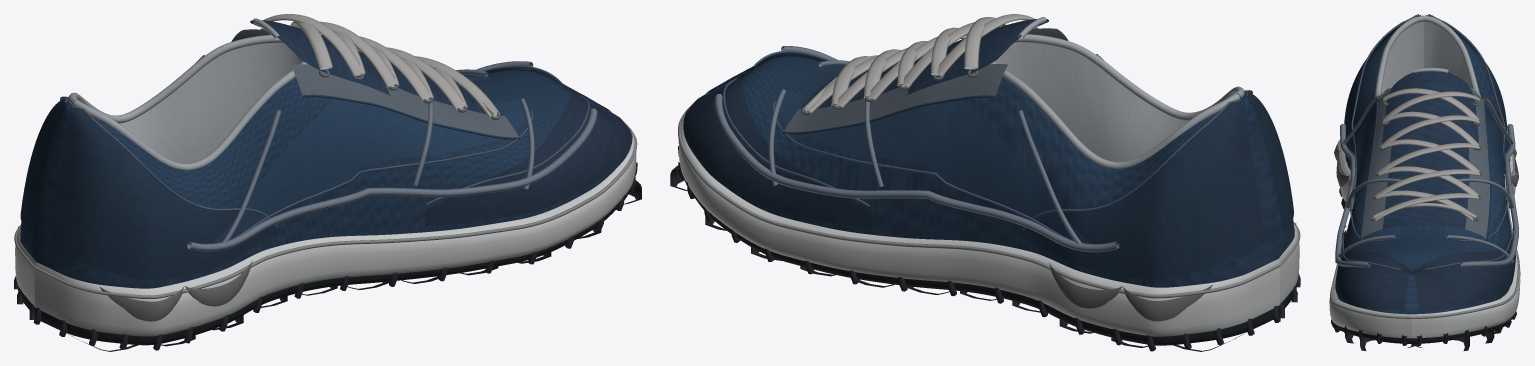
Rendered from 06-navy-grey.glb.
The picture shows the model from 3 angles, left to right: view 1: azimuth 30°, elevation 25°; view 2: azimuth 150°, elevation 25°; view 3: azimuth 270°, elevation 25°; orthographic projection. The views are drawn at different scales.
Parts seen in each view (by area): view 1: upper, midsole, heel-panel, quarter, lining, toe-wrap, laces, support, eyelet-stay, outsole, padded-rim, tongue (+6 smaller); view 2: upper, midsole, heel-panel, quarter, lining, toe-wrap, laces, support, eyelet-stay, outsole, padded-rim, welt (+6 smaller); view 3: tongue, toe-wrap, upper, laces, midsole, eyelet-stay, support, lining, quarter, stitch, padded-rim, heel-panel (+7 smaller).
Part boxes in pixels (x1,y1,x2,y2): upper: (20,70,632,288); midsole: (15,117,636,336); heel-panel: (20,99,278,279); quarter: (212,74,530,243); lining: (73,43,302,170); toe-wrap: (425,67,631,225); laces: (263,14,500,118); support: (187,55,597,251); eyelet-stay: (231,29,518,137); outsole: (17,186,631,345); padded-rim: (68,35,308,169); tongue: (250,20,503,115); upper: (683,56,1294,287); midsole: (678,98,1299,336); heel-panel: (1021,92,1293,279); quarter: (775,65,1092,244); lining: (995,42,1239,168); toe-wrap: (683,53,871,228); laces: (804,14,1035,113); support: (714,46,1119,252); eyelet-stay: (784,28,1068,132); outsole: (682,174,1297,345); padded-rim: (990,34,1244,168); welt: (678,108,1300,298); tongue: (1381,71,1479,229); toe-wrap: (1335,230,1515,311); upper: (1337,31,1511,314); laces: (1373,88,1480,221); midsole: (1329,141,1520,338); eyelet-stay: (1361,88,1489,237); support: (1335,97,1518,267); lining: (1381,21,1471,94); quarter: (1346,121,1509,241); stitch: (1342,14,1514,270); padded-rim: (1374,15,1481,99); heel-panel: (1344,15,1510,166).
Bounding box in the file's own units: 0.2886 × 0.1182 × 0.1105.
